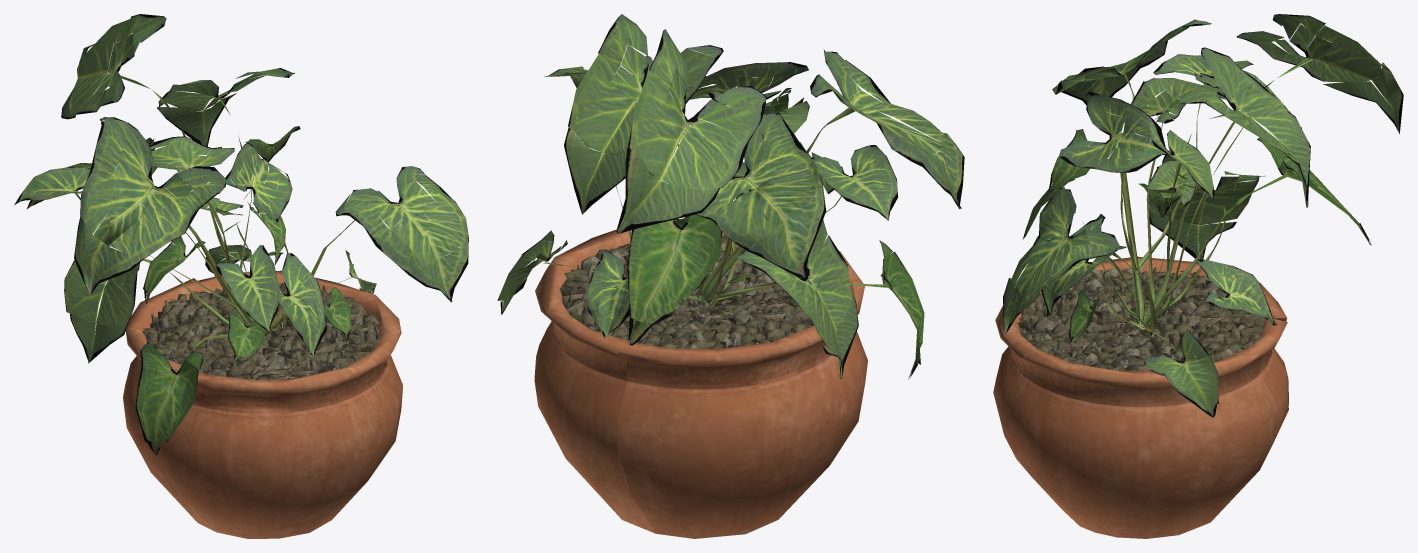
File: potted_plant_02.glb
3 views of the same model, side by side, from view 1: azimuth 30°, elevation 25°; view 2: azimuth 150°, elevation 25°; view 3: azimuth 270°, elevation 25° (orthographic). The views are drawn at different scales.
Parts seen in each view (by area): view 1: potted_plant_02_leaves, potted_plant_02_pot, potted_plant_02_dirt; view 2: potted_plant_02_leaves, potted_plant_02_pot, potted_plant_02_dirt; view 3: potted_plant_02_leaves, potted_plant_02_pot, potted_plant_02_dirt.
Part boxes in pixels (<box>): potted_plant_02_leaves: <box>14,14,468,454</box>; potted_plant_02_pot: <box>123,270,402,538</box>; potted_plant_02_dirt: <box>142,283,382,379</box>; potted_plant_02_leaves: <box>497,14,964,379</box>; potted_plant_02_pot: <box>534,224,867,538</box>; potted_plant_02_dirt: <box>559,235,825,348</box>; potted_plant_02_leaves: <box>1003,14,1403,417</box>; potted_plant_02_pot: <box>993,256,1288,538</box>; potted_plant_02_dirt: <box>1017,267,1267,370</box>.
Size of the model in its own units: 0.7009 by 0.842 by 0.6594.
Materials: 2 (2 with a texture image).
